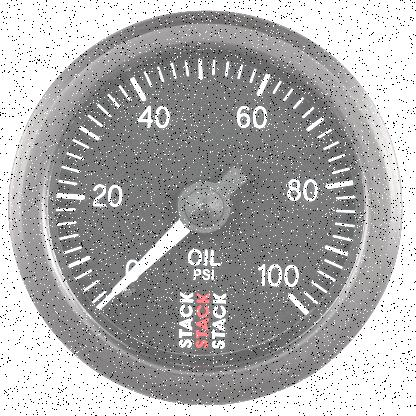needle: (108, 218, 192, 298)
